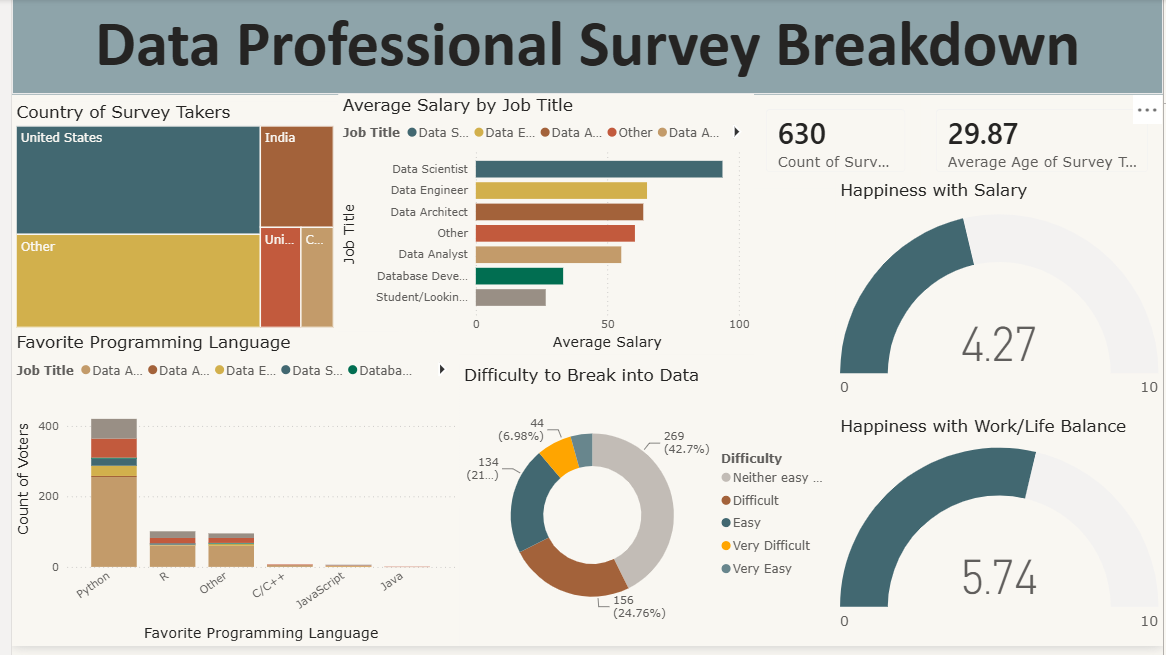

This screenshot's page, from the dashboard's own definition file:
{"tool":"powerbi","page":{"name":"Page 1","canvas":[1280,720],"ordinal":0},"visuals":[{"type":"cardVisual","fields":{"Data":["CountNonNull(Data Professional Survey.Unique ID)"]},"box":[822.2,106.2,189.6,104.7],"z":0},{"type":"cardVisual","fields":{"Data":["Avg(Data Professional Survey.Q10 - Current Age)"]},"box":[1010.3,106.2,270,104.7],"z":1000},{"type":"textbox","box":[0,0,1280.3,106.2],"z":2000},{"type":"barChart","title":" Average Salary by Job Title","fields":{"Category":["Data Professional Survey.Q1 - Which Title Best Fits your Current Role?.1"],"Y":["Avg(Data Professional Survey.Average Salary)"],"Series":["Data Professional Survey.Q1 - Which Title Best Fits your Current Role?.1"]},"box":[362.6,106.2,462.7,289.7],"z":3000},{"type":"columnChart","title":"Favorite Programming Language","fields":{"Category":["Data Professional Survey.Q5 - Favorite Programming Language.1"],"Y":["CountNonNull(Data Professional Survey.Unique ID)"],"Series":["Data Professional Survey.Q1 - Which Title Best Fits your Current Role?.1"]},"box":[0,370.1,497.6,348.9],"z":4000},{"type":"treemap","title":"Country of Survey Takers","fields":{"Group":["Data Professional Survey.Q11 - Which Country do you live in?.1"],"Values":["CountNonNull(Data Professional Survey.Q11 - Which Country do you live in?.1)"]},"box":[0,113.8,362.6,256.4],"z":5000},{"type":"gauge","title":"Happiness with Work/Life Balance","fields":{"Y":["Avg(Data Professional Survey.Q6 - How Happy are you in your Current Position with the following? (Work/Life Balance))"],"MinValue":["Min(Data Professional Survey.Q6 - How Happy are you in your Current Position with the following? (Work/Life Balance))"],"MaxValue":["Max(Data Professional Survey.Q6 - How Happy are you in your Current Position with the following? (Work/Life Balance))1"]},"box":[916.2,462.7,364.1,256.4],"z":6000},{"type":"gauge","title":"Happiness with Salary","fields":{"Y":["Avg(Data Professional Survey.Q6 - How Happy are you in your Current Position with the following? (Salary))"],"MinValue":["Min(Data Professional Survey.Q6 - How Happy are you in your Current Position with the following? (Salary))"],"MaxValue":["Max(Data Professional Survey.Q6 - How Happy are you in your Current Position with the following? (Salary))1"]},"box":[916.2,200.2,364.1,262.4],"z":7000},{"type":"donutChart","title":"Difficulty to Break into Data","fields":{"Category":["Data Professional Survey.Q7 - How difficult was it for you to break into Data?"],"Y":["CountNonNull(Data Professional Survey.Q7 - How difficult was it for you to break into Data?)"]},"box":[497.6,406.5,418.7,314],"z":8000}]}

Visuals, with their boxes in screenshot pixels (x1, y1, x2, y2), scaled from the page's 1280x720 canvas onto the 1166x655 screenshot:
cardVisual - CountNonNull(Data Professional Survey.Unique ID): crop(749, 97, 922, 192)
cardVisual - Avg(Data Professional Survey.Q10 - Current Age): crop(920, 97, 1165, 192)
textbox: crop(0, 0, 1165, 97)
" Average Salary by Job Title" barChart: crop(330, 97, 752, 360)
"Favorite Programming Language" columnChart: crop(0, 337, 453, 654)
"Country of Survey Takers" treemap: crop(0, 104, 330, 337)
"Happiness with Work/Life Balance" gauge: crop(835, 421, 1165, 654)
"Happiness with Salary" gauge: crop(835, 182, 1165, 421)
"Difficulty to Break into Data" donutChart: crop(453, 370, 835, 654)
